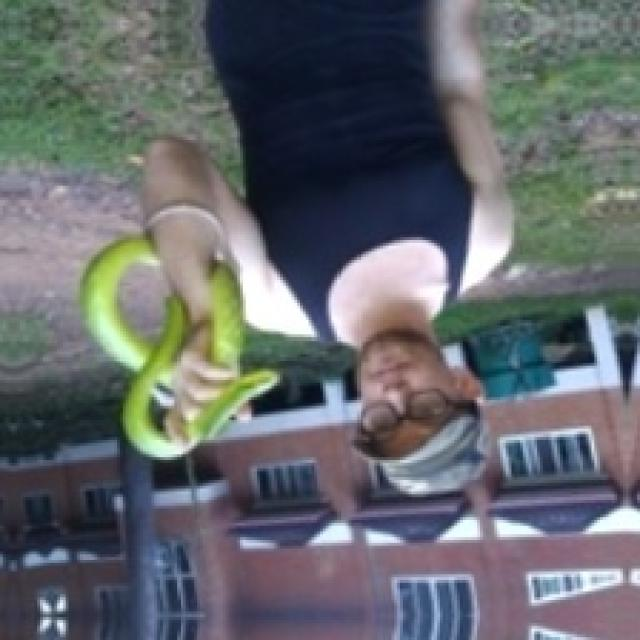red-tailed green ratsnake: (80, 234, 274, 457)
